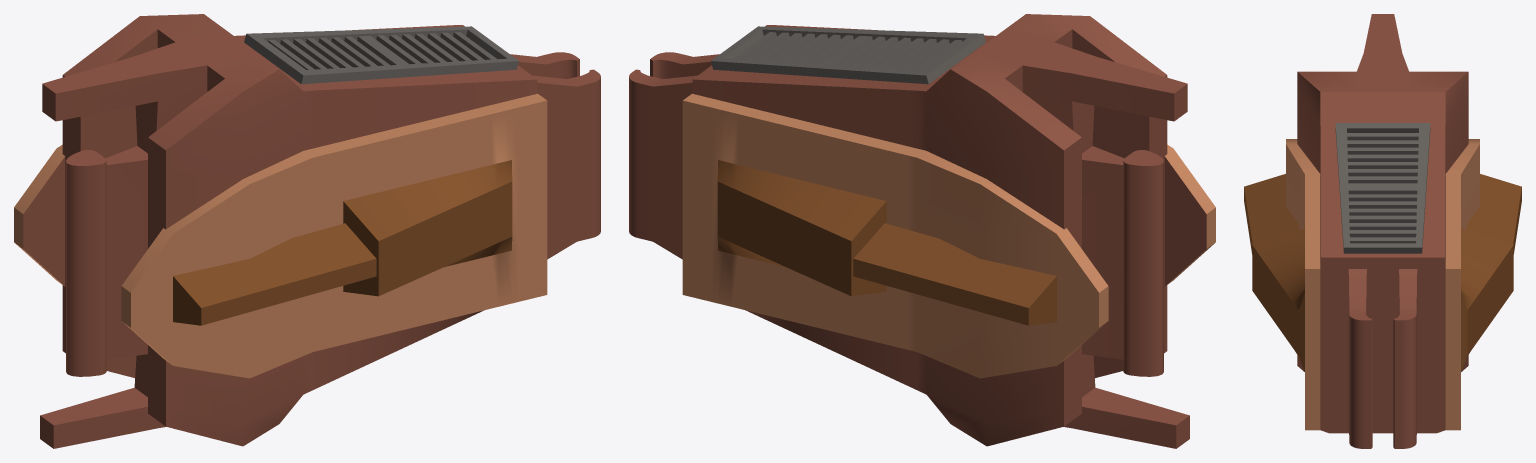
File: Onderdeel Staart Nummer 6.fbx
The picture shows the model from 3 angles, left to right: view 1: azimuth 30°, elevation 25°; view 2: azimuth 150°, elevation 25°; view 3: azimuth 270°, elevation 25°; orthographic projection. The views are drawn at different scales.
Parts seen in each view (by area): view 1: Onderdeel staart.016; view 2: Onderdeel staart.016; view 3: Onderdeel staart.016.
Part boxes in pixels (bbox=[...]): Onderdeel staart.016: bbox=[14, 14, 600, 448]; Onderdeel staart.016: bbox=[629, 14, 1215, 448]; Onderdeel staart.016: bbox=[1244, 14, 1521, 448].
Size of the model in its own units: 666 by 418 by 358.
